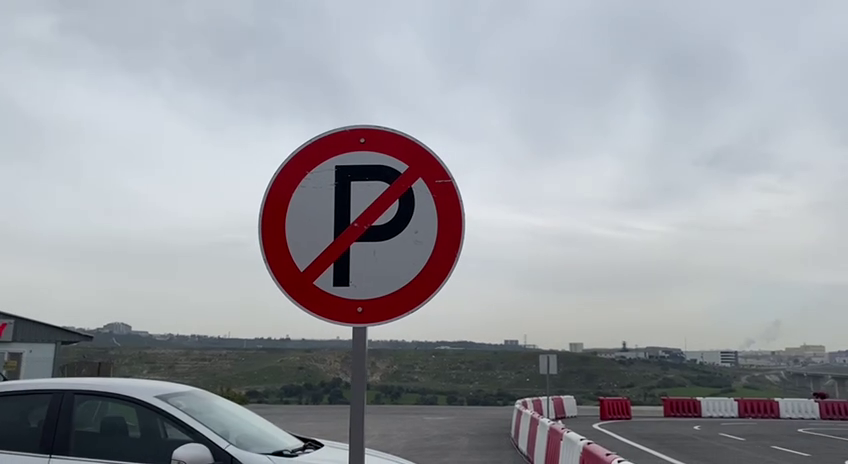noparking: (250, 117, 468, 333)
